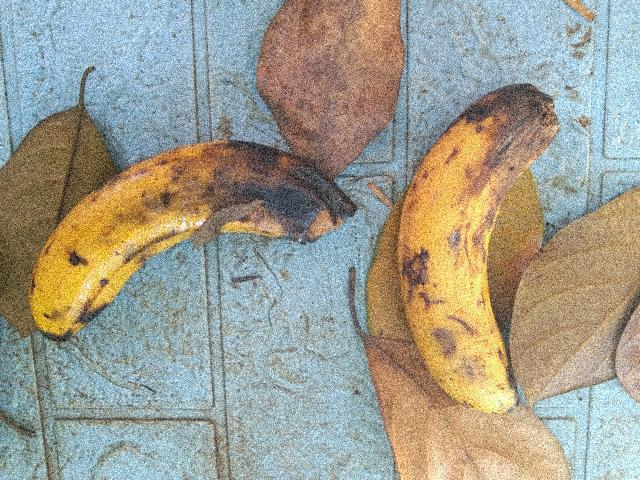overripe: (374, 200, 543, 421), (15, 142, 186, 353)
rotten: (151, 119, 355, 275), (425, 57, 571, 239)
